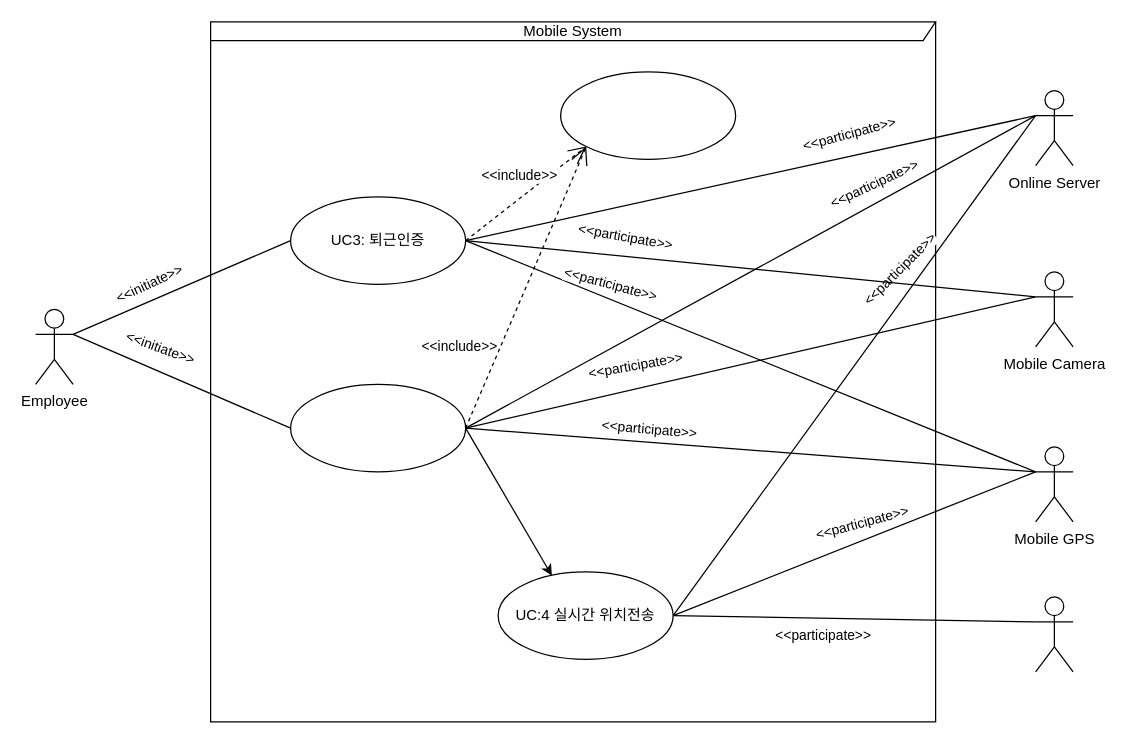
Image size: 1126x744. Some labels were removed from this diagram. The shapes that lost their labels are listed below. From the top down, each one's centre as x and y in pixels, then its label:
At [647,115]: "UC-1: 로그인".
At [377,427]: "UC-2: 출근인증".
At [1053,634]: "Timer".
